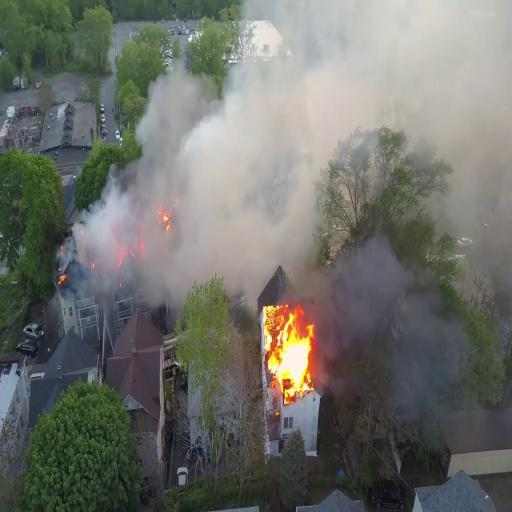fire: (267, 305, 311, 422)
smoke: (158, 121, 310, 220)
